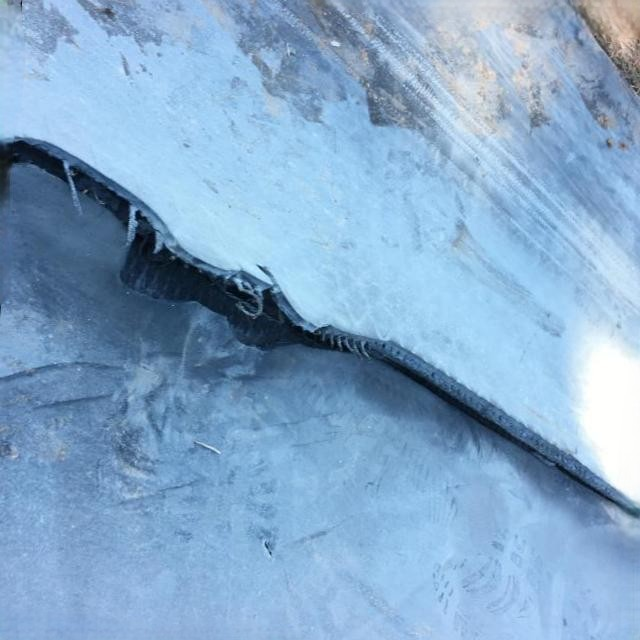Tear: (0, 106, 640, 538)
